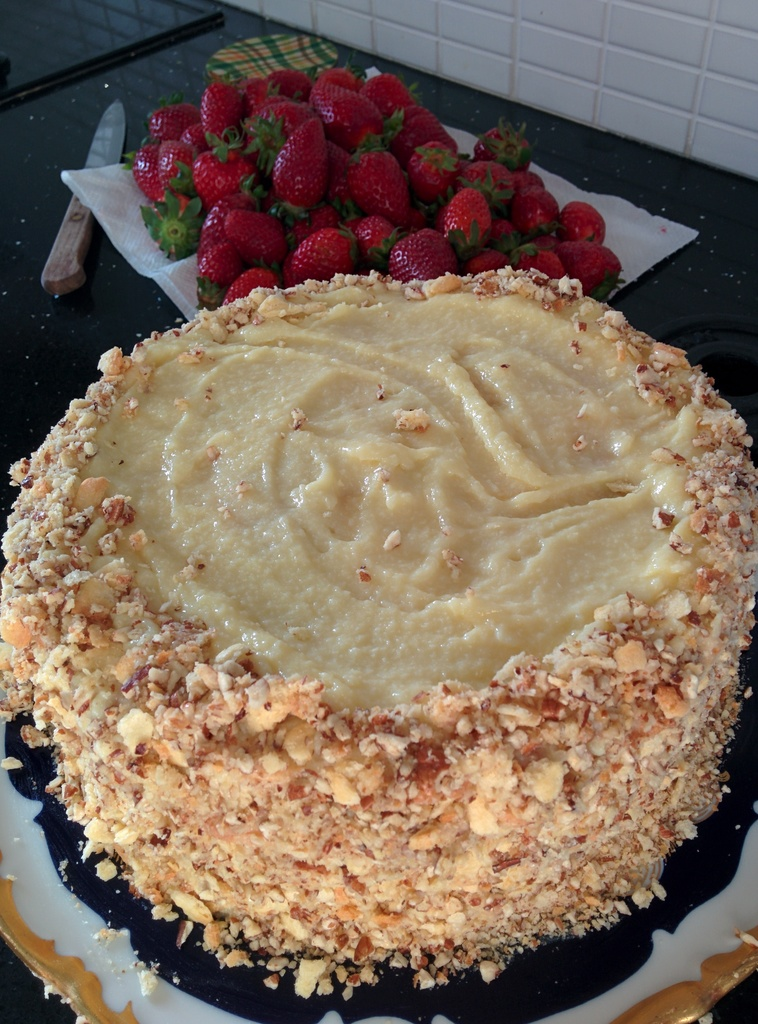cake: (0, 265, 757, 1001)
